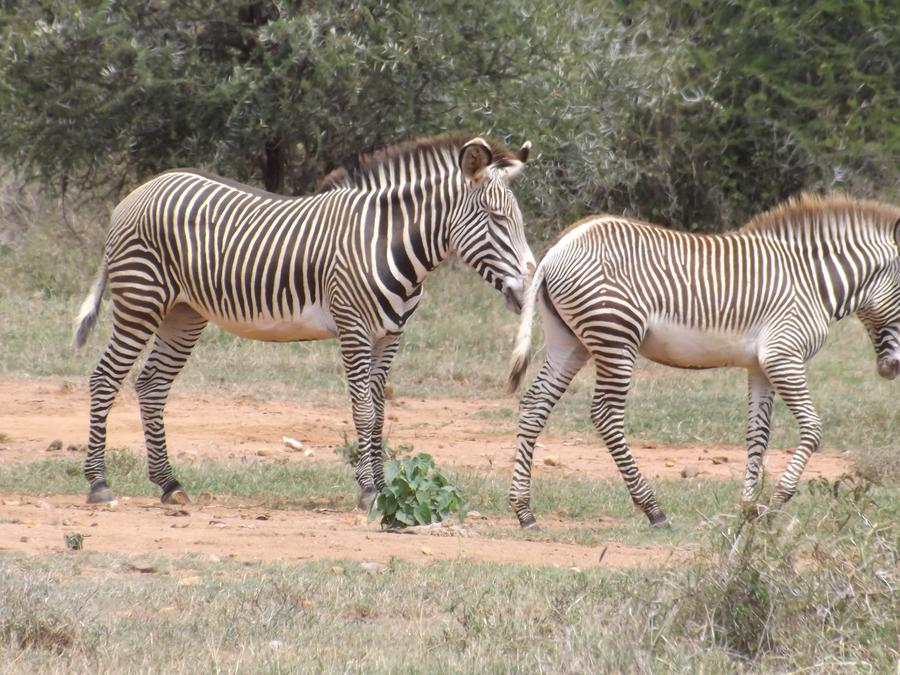zebra_grevys: (549, 206, 810, 360)
